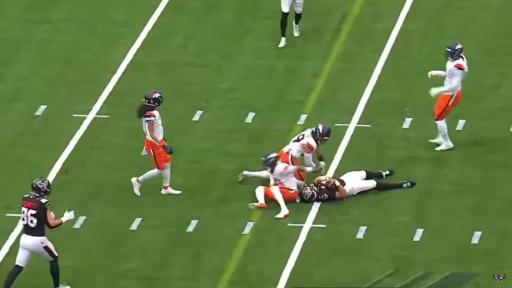Helmet: (31, 178, 50, 197), (312, 124, 330, 143), (299, 184, 317, 202), (446, 43, 463, 60), (144, 91, 162, 106), (262, 153, 278, 168)
Jersey: (22, 195, 50, 236), (282, 129, 318, 158), (444, 55, 467, 92), (271, 162, 297, 190), (298, 184, 337, 202), (142, 110, 163, 140), (316, 184, 337, 202)
Player: (4, 178, 74, 287), (131, 91, 181, 195), (249, 153, 321, 218), (428, 43, 467, 150), (297, 170, 415, 202), (279, 124, 330, 168), (279, 0, 303, 47)
